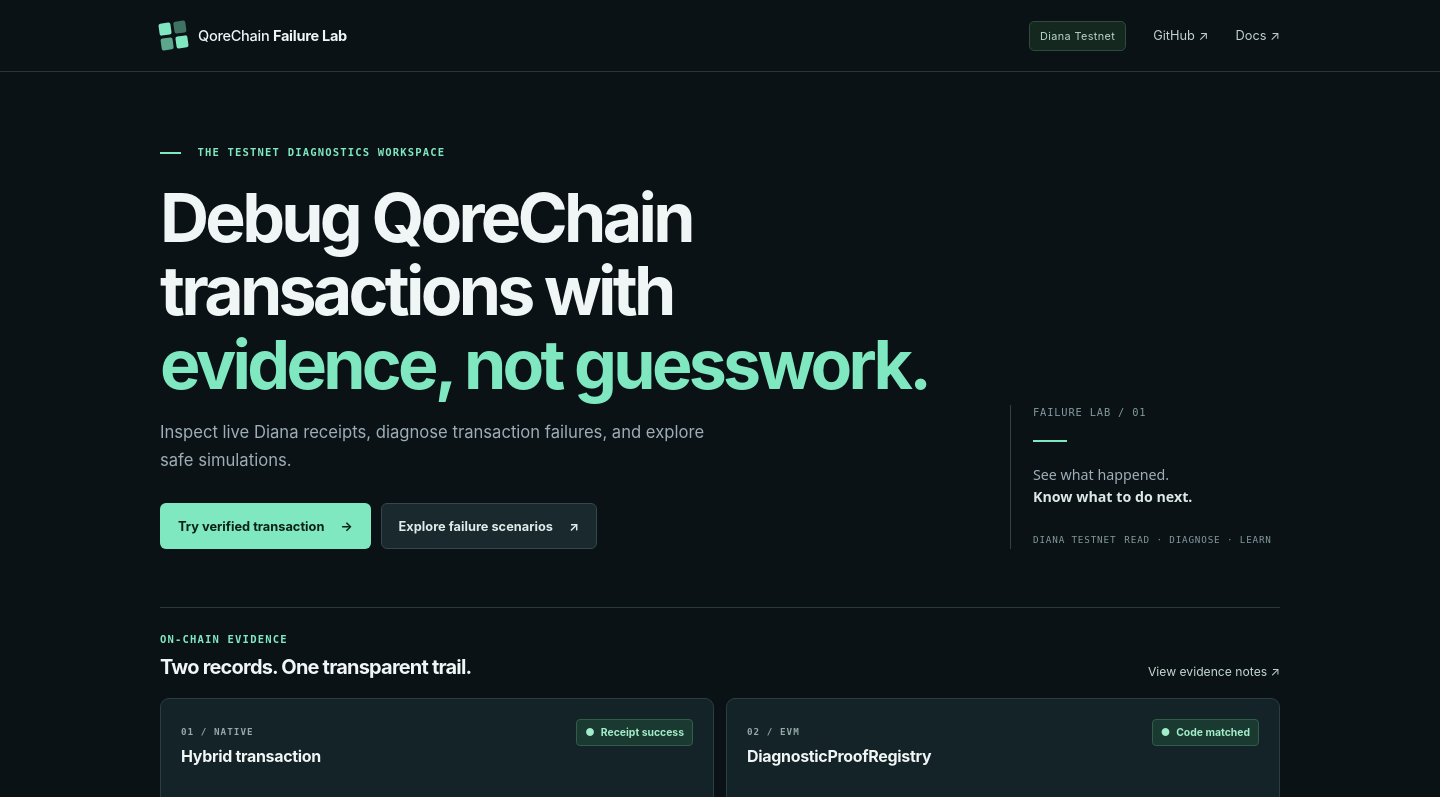
Test case: transaction workspace › runs the verified example directly from the hero and displays receipt evidence
What coordinates should you click on to do the following:
click the link "Try verified transaction →"
I would click on:
 (265, 526)
Its box is [160,503,371,549].
(page scrolled)
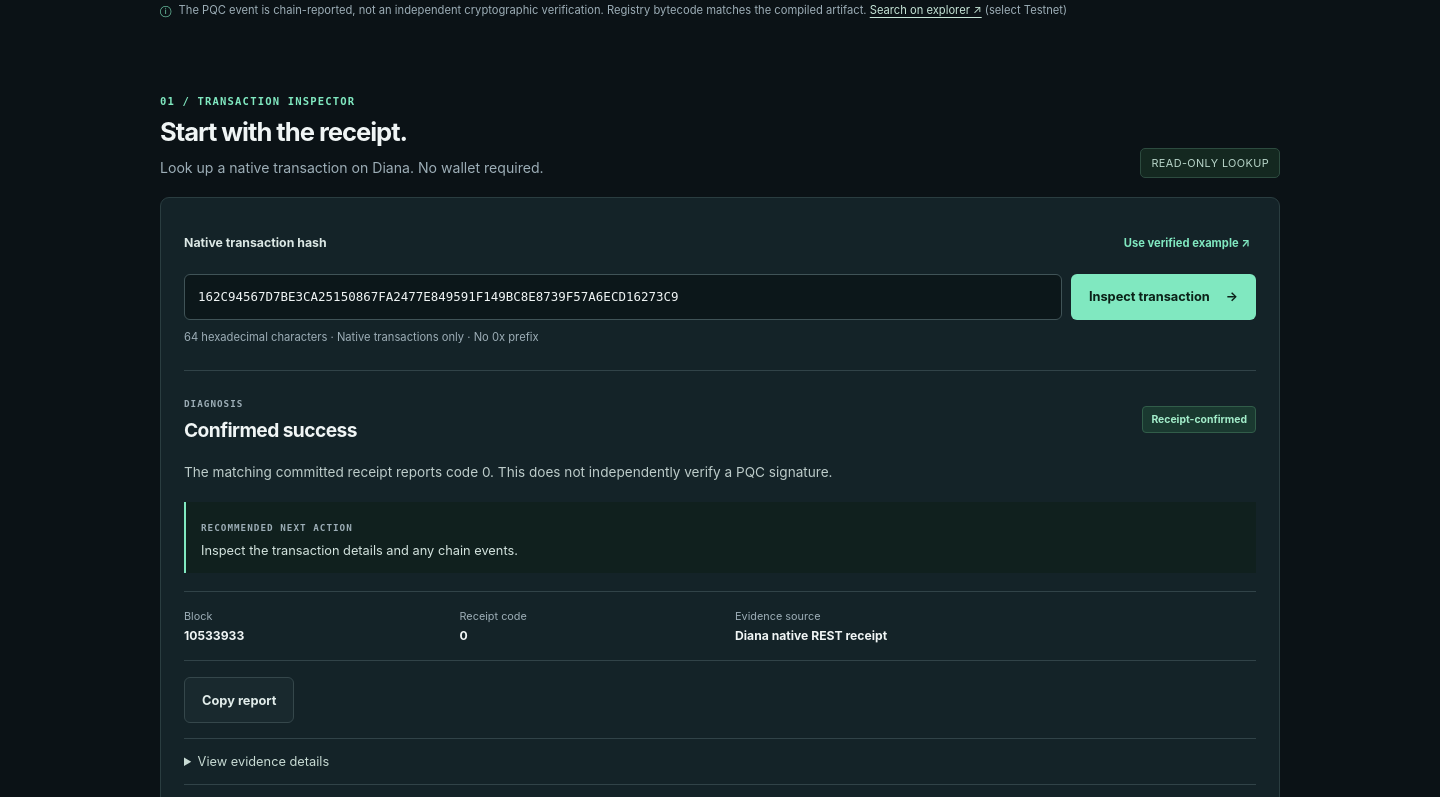
Check: the heading "Confirmed success" is shown, box [184,418,357,442]
Check: the field labelled "Native transaction hash" holds "162C94567D7BE3CA25150867FA2477E849591F149BC8E8739F57A6ECD16273C9", box [184,274,1062,320]
Check: the text "10533933" is shown, box [184,628,244,643]
